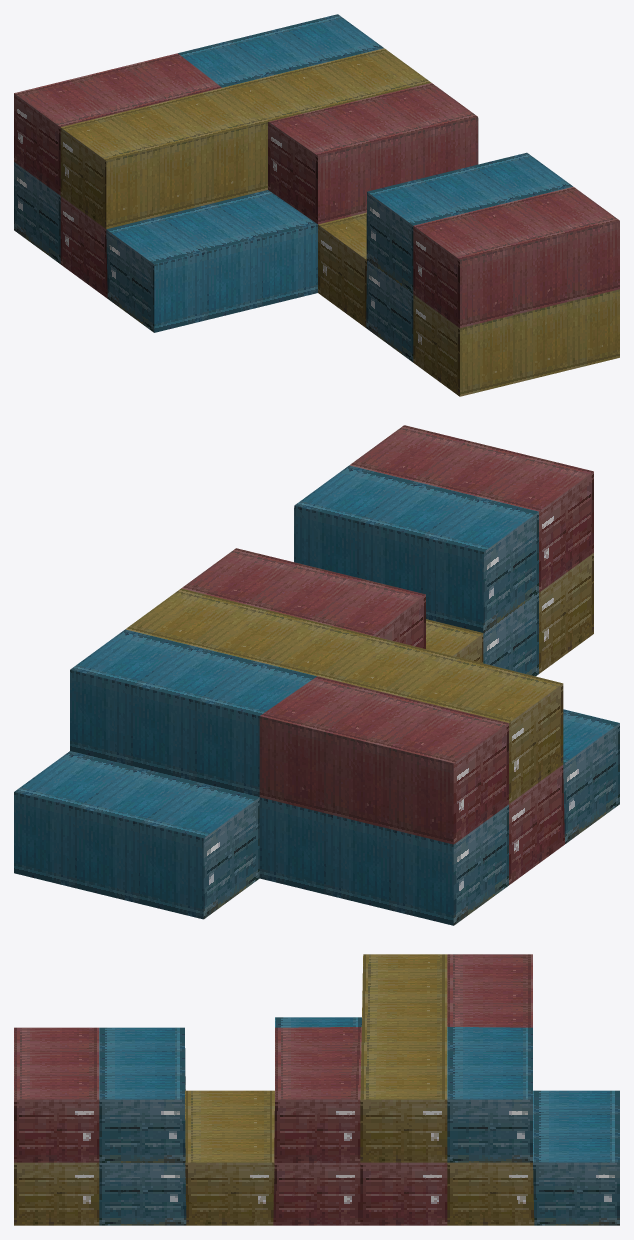
The model's file is lodasnfrates02.obj.
The picture shows the model from 3 angles, top to bottom: view 1: azimuth 30°, elevation 25°; view 2: azimuth 150°, elevation 25°; view 3: azimuth 270°, elevation 25°; orthographic projection. The views are drawn at different scales.
Parts seen in each view (by area): view 1: lodasnfrates02; view 2: lodasnfrates02; view 3: lodasnfrates02.
Boxes of the visible parts, left/top/right/bottom form: lodasnfrates02: left=14, top=14, right=619, bottom=396; lodasnfrates02: left=14, top=425, right=619, bottom=925; lodasnfrates02: left=14, top=954, right=619, bottom=1225.
Size of the model in its own units: 19.78 by 8 by 34.83.
6 materials, 6 textured.
